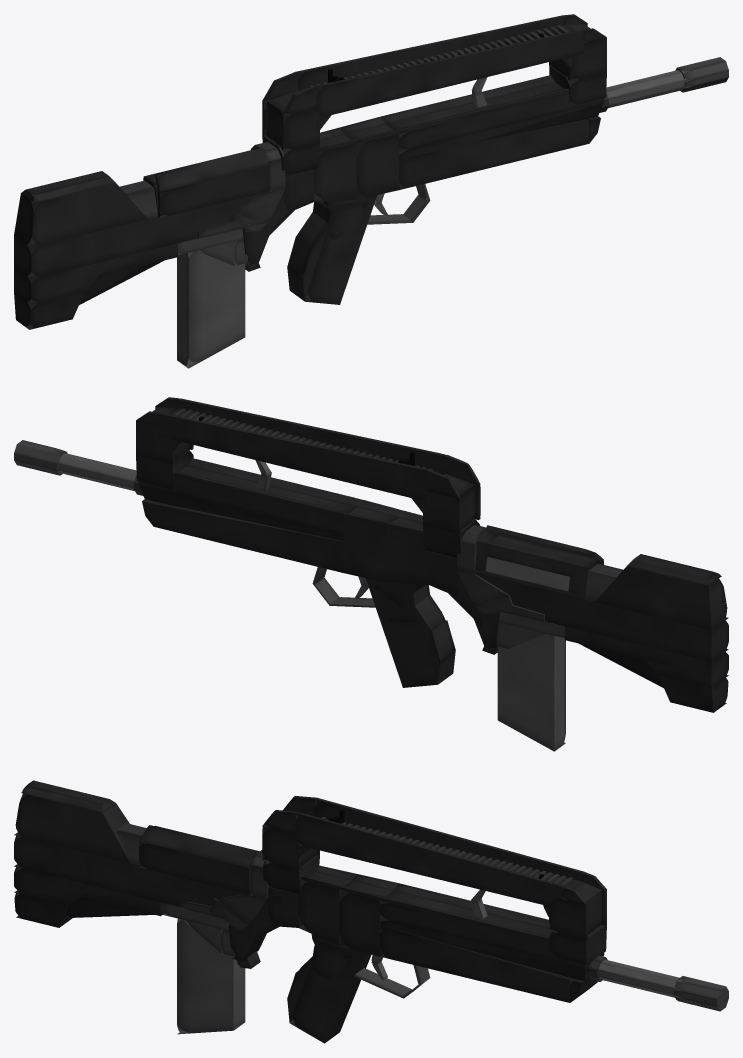
File: famas.obj
3 views of the same model, one above another, from view 1: azimuth 30°, elevation 25°; view 2: azimuth 150°, elevation 25°; view 3: azimuth 330°, elevation 25° (orthographic).
Parts seen in each view (by area): view 1: gunModel53, gunModel14, gunModel26, gunModel1, gunModel15, gunModel0, gunModel45, gunModel6, gunModel32, gunModel3, gunModel4, gunModel27 (+25 smaller); view 2: gunModel45, gunModel14, gunModel26, gunModel1, gunModel15, gunModel0, gunModel53, gunModel6, gunModel3, gunModel4, gunModel38, gunModel27 (+29 smaller); view 3: gunModel53, gunModel14, gunModel26, gunModel1, gunModel15, gunModel0, gunModel45, gunModel6, gunModel32, gunModel3, gunModel4, gunModel5 (+29 smaller).
Boxes of the visible parts, <box> form: gunModel53: <box>315,29,583,117</box>; gunModel14: <box>14,191,268,278</box>; gunModel26: <box>177,241,245,368</box>; gunModel1: <box>399,119,589,189</box>; gunModel15: <box>14,183,147,247</box>; gunModel0: <box>385,77,604,151</box>; gunModel45: <box>296,15,564,90</box>; gunModel6: <box>291,189,377,304</box>; gunModel32: <box>158,165,269,217</box>; gunModel3: <box>343,124,399,199</box>; gunModel4: <box>314,134,356,201</box>; gunModel27: <box>14,259,112,304</box>; gunModel45: <box>159,412,427,501</box>; gunModel14: <box>474,573,728,661</box>; gunModel26: <box>497,634,565,751</box>; gunModel1: <box>153,502,343,572</box>; gunModel15: <box>595,566,728,630</box>; gunModel0: <box>138,466,356,534</box>; gunModel53: <box>178,398,446,474</box>; gunModel6: <box>365,578,451,687</box>; gunModel3: <box>343,507,398,582</box>; gunModel4: <box>386,517,428,584</box>; gunModel38: <box>486,535,599,576</box>; gunModel27: <box>630,642,728,687</box>; gunModel53: <box>295,811,563,906</box>; gunModel14: <box>14,834,251,923</box>; gunModel26: <box>177,918,245,1034</box>; gunModel1: <box>380,920,573,1002</box>; gunModel15: <box>14,786,130,863</box>; gunModel0: <box>380,889,604,968</box>; gunModel45: <box>315,797,583,881</box>; gunModel6: <box>290,944,371,1043</box>; gunModel32: <box>139,840,250,893</box>; gunModel3: <box>339,879,392,956</box>; gunModel4: <box>298,871,351,945</box>; gunModel5: <box>380,920,604,980</box>.
Size of the model in its own units: 21 by 7.3 by 1.1.
